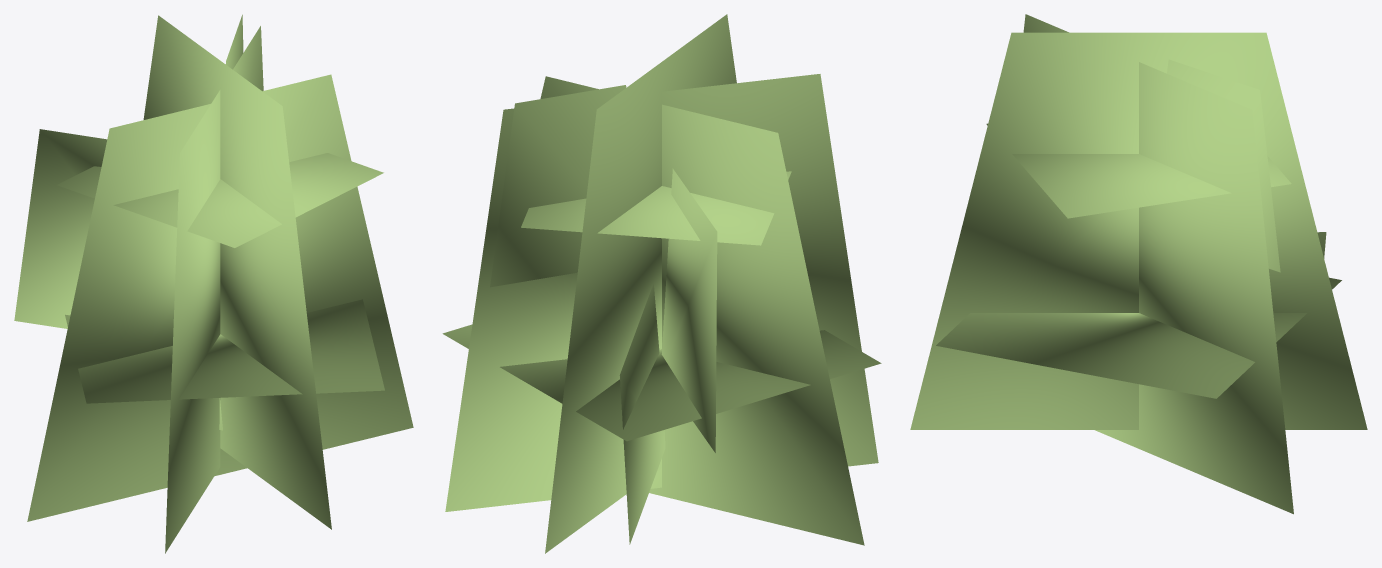
The model's file is birch-canopy-unit-authored-atlas.glb.
3 views of the same model, side by side, from view 1: azimuth 30°, elevation 25°; view 2: azimuth 150°, elevation 25°; view 3: azimuth 270°, elevation 25° (orthographic). The views are drawn at different scales.
Visible parts, largest first — view 1: Authored surface; view 2: Authored surface; view 3: Authored surface.
Part boxes in pixels (left/top/right/bottom): Authored surface: left=14, top=14, right=413, bottom=553; Authored surface: left=442, top=14, right=881, bottom=553; Authored surface: left=910, top=14, right=1367, bottom=514.
Bounding box in the file's own units: 2.97 × 3.04 × 2.97.
Materials: 1 (1 with a texture image).
